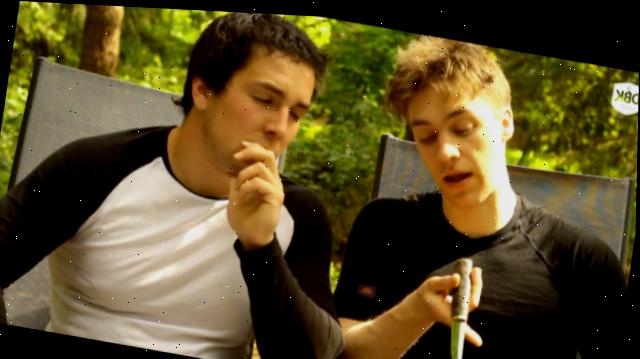pocket-knife: (435, 247, 482, 359)
